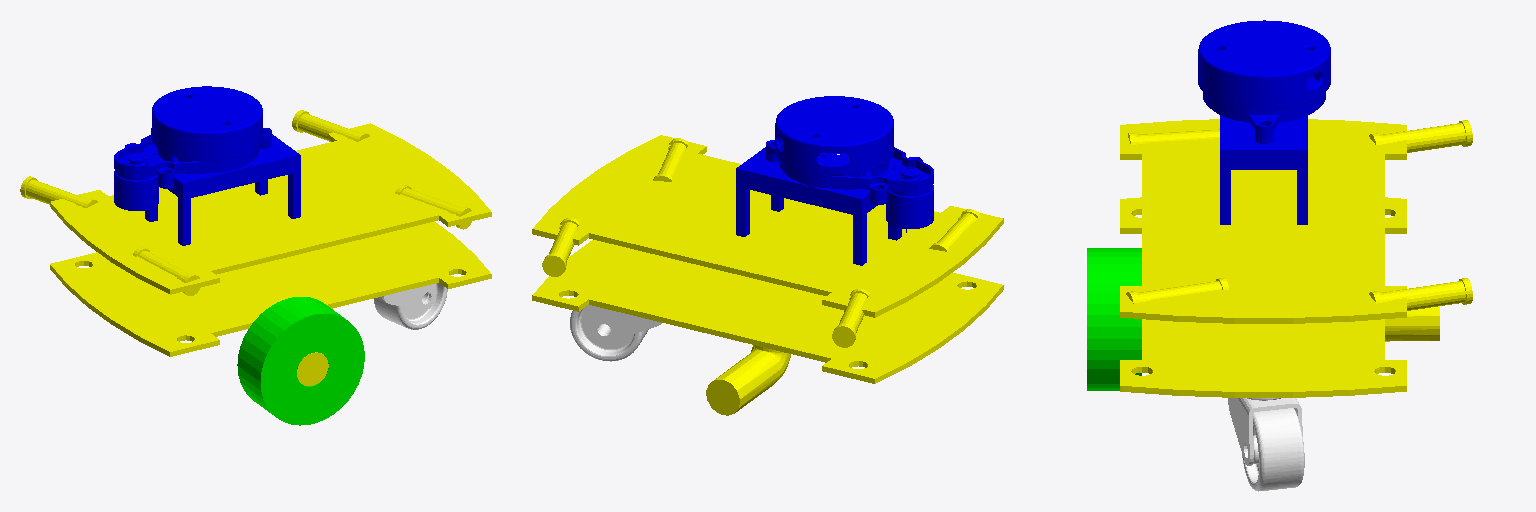
The robot description file, URDF, robot "ydpibot_describtion":
<?xml version="1.0" encoding="utf-8"?>
<!-- This URDF was automatically created by SolidWorks to URDF Exporter! Originally created by [author] ([email redacted]) 
     Commit Version: 1.6.0-4-g7f85cfe  Build Version: 1.6.7995.38578
     For more information, please see http://wiki.ros.org/sw_urdf_exporter -->
<robot
  name="ydpibot_describtion">
  <link name="dummy">
   </link>
  <link name="base_link">
    <inertial>
      <origin
        xyz="0.093495 -0.17099 0.094111"
        rpy="0 0 0" />
      <mass
        value="0.11353" />
      <inertia
        ixx="0"
        ixy="0"
        ixz="0"
        iyy="0"
        iyz="0"
        izz="0" />
    </inertial>
    <visual>
      <origin
        xyz="0 0 0"
        rpy="0 0 0" />
      <geometry>
        <mesh
          filename="package://ydpibot_describtion/meshes/base_link.STL" />
      </geometry>
      <material
        name="">
        <color
          rgba="1 1 0 1" />
      </material>
    </visual>
    <collision>
      <origin
        xyz="0 0 0"
        rpy="0 0 0" />
      <geometry>
        <mesh
          filename="package://ydpibot_describtion/meshes/base_link.STL" />
      </geometry>
    </collision>
  </link>
  <joint name="dummy_joint" type="fixed">
     <parent link="dummy"/>
     <child link="base_link"/>
   </joint>
  <link
    name="Base_upper">
    <inertial>
      <origin
        xyz="-0.00023228 0.0015 2.7756E-17"
        rpy="0 0 0" />
      <mass
        value="0.072243" />
      <inertia
        ixx="7.9419E-05"
        ixy="7.2898E-21"
        ixz="2.2924E-19"
        iyy="0.00035752"
        iyz="-3.7269E-21"
        izz="0.00027821" />
    </inertial>
    <visual>
      <origin
        xyz="0 0 0"
        rpy="0 0 0" />
      <geometry>
        <mesh
          filename="package://ydpibot_describtion/meshes/Base_upper.STL" />
      </geometry>
      <material
        name="">
        <color
          rgba="1 1 0 1" />
      </material>
    </visual>
    <collision>
      <origin
        xyz="0 0 0"
        rpy="0 0 0" />
      <geometry>
        <mesh
          filename="package://ydpibot_describtion/meshes/Base_upper.STL" />
      </geometry>
    </collision>
  </link>
  <joint
    name="Base_upper_joint"
    type="fixed">
    <origin
      xyz="0.10092 -0.17099 0.13642"
      rpy="1.5708 0 0" />
    <parent
      link="base_link" />
    <child
      link="Base_upper" />
    <axis
      xyz="0 0 0" />
  </joint>
  <link
    name="spacer1">
    <inertial>
      <origin
        xyz="8.3267E-17 -0.017 -2.7756E-17"
        rpy="0 0 0" />
      <mass
        value="0.0038202" />
      <inertia
        ixx="7.5881E-07"
        ixy="4.9502E-23"
        ixz="0"
        iyy="5.1484E-08"
        iyz="-2.6834E-23"
        izz="7.5881E-07" />
    </inertial>
    <visual>
      <origin
        xyz="0 0 0"
        rpy="0 0 0" />
      <geometry>
        <mesh
          filename="package://ydpibot_describtion/meshes/spacer1.STL" />
      </geometry>
      <material
        name="">
        <color
          rgba="1 1 0 1" />
      </material>
    </visual>
    <collision>
      <origin
        xyz="0 0 0"
        rpy="0 0 0" />
      <geometry>
        <mesh
          filename="package://ydpibot_describtion/meshes/spacer1.STL" />
      </geometry>
    </collision>
  </link>
  <joint
    name="spacer1_joint"
    type="continuous">
    <origin
      xyz="0.084615 0 -0.055"
      rpy="0 0.33559 0" />
    <parent
      link="Base_upper" />
    <child
      link="spacer1" />
    <axis
      xyz="0 1 0" />
  </joint>
  <link
    name="spacer2">
    <inertial>
      <origin
        xyz="1.3878E-16 -0.017 5.5511E-17"
        rpy="0 0 0" />
      <mass
        value="0.0038202" />
      <inertia
        ixx="7.5881E-07"
        ixy="3.3914E-23"
        ixz="-5.294E-23"
        iyy="5.1484E-08"
        iyz="-2.2598E-23"
        izz="7.5881E-07" />
    </inertial>
    <visual>
      <origin
        xyz="0 0 0"
        rpy="0 0 0" />
      <geometry>
        <mesh
          filename="package://ydpibot_describtion/meshes/spacer2.STL" />
      </geometry>
      <material
        name="">
        <color
          rgba="1 1 0 1" />
      </material>
    </visual>
    <collision>
      <origin
        xyz="0 0 0"
        rpy="0 0 0" />
      <geometry>
        <mesh
          filename="package://ydpibot_describtion/meshes/spacer2.STL" />
      </geometry>
    </collision>
  </link>
  <joint
    name="spacer2_joint"
    type="continuous">
    <origin
      xyz="0.084615 0 0.055"
      rpy="0 0.33674 0" />
    <parent
      link="Base_upper" />
    <child
      link="spacer2" />
    <axis
      xyz="0 1 0" />
  </joint>
  <link
    name="spacer3">
    <inertial>
      <origin
        xyz="0 -0.017 0"
        rpy="0 0 0" />
      <mass
        value="0.0038202" />
      <inertia
        ixx="7.5881E-07"
        ixy="2.3253E-23"
        ixz="0"
        iyy="5.1484E-08"
        iyz="-1.7306E-23"
        izz="7.5881E-07" />
    </inertial>
    <visual>
      <origin
        xyz="0 0 0"
        rpy="0 0 0" />
      <geometry>
        <mesh
          filename="package://ydpibot_describtion/meshes/spacer3.STL" />
      </geometry>
      <material
        name="">
        <color
          rgba="1 1 0 1" />
      </material>
    </visual>
    <collision>
      <origin
        xyz="0 0 0"
        rpy="0 0 0" />
      <geometry>
        <mesh
          filename="package://ydpibot_describtion/meshes/spacer3.STL" />
      </geometry>
    </collision>
  </link>
  <joint
    name="spacer3_joint"
    type="continuous">
    <origin
      xyz="-0.084615 0 -0.055"
      rpy="0 0.33674 0" />
    <parent
      link="Base_upper" />
    <child
      link="spacer3" />
    <axis
      xyz="0 1 0" />
  </joint>
  <link
    name="spacer4">
    <inertial>
      <origin
        xyz="-2.4286E-17 -0.017 2.7756E-17"
        rpy="0 0 0" />
      <mass
        value="0.0038202" />
      <inertia
        ixx="7.5881E-07"
        ixy="1.4302E-23"
        ixz="0"
        iyy="5.1484E-08"
        iyz="3.294E-24"
        izz="7.5881E-07" />
    </inertial>
    <visual>
      <origin
        xyz="0 0 0"
        rpy="0 0 0" />
      <geometry>
        <mesh
          filename="package://ydpibot_describtion/meshes/spacer4.STL" />
      </geometry>
      <material
        name="">
        <color
          rgba="1 1 0 1" />
      </material>
    </visual>
    <collision>
      <origin
        xyz="0 0 0"
        rpy="0 0 0" />
      <geometry>
        <mesh
          filename="package://ydpibot_describtion/meshes/spacer4.STL" />
      </geometry>
    </collision>
  </link>
  <joint
    name="spacer4_joint"
    type="continuous">
    <origin
      xyz="-0.0846153846153846 0 0.0549999999999999"
      rpy="0 0.147154651933592 0" />
    <parent
      link="Base_upper" />
    <child
      link="spacer4" />
    <axis
      xyz="0 1 0" />
  </joint>
  <link
    name="Lidar">
    <inertial>
      <origin
        xyz="-0.010012 -1.8874E-15 -0.015783"
        rpy="0 0 0" />
      <mass
        value="0.032124" />
      <inertia
        ixx="6.0421E-06"
        ixy="-8.5232E-20"
        ixz="1.0463E-21"
        iyy="1.7716E-05"
        iyz="2.3635E-21"
        izz="2.1195E-05" />
    </inertial>
    <visual>
      <origin
        xyz="0 0 0"
        rpy="0 0 0" />
      <geometry>
        <mesh
          filename="package://ydpibot_describtion/meshes/Lidar.STL" />
      </geometry>
      <material
        name="">
        <color
          rgba="0 0 1 1" />
      </material>
    </visual>
    <collision>
      <origin
        xyz="0 0 0"
        rpy="0 0 0" />
      <geometry>
        <mesh
          filename="package://ydpibot_describtion/meshes/Lidar.STL" />
      </geometry>
    </collision>
  </link>
  <joint
    name="Lidar_joint"
    type="fixed">
    <origin
      xyz="-0.039725 0.04948 0"
      rpy="1.5708 0 -3.1416" />
    <parent
      link="Base_upper" />
    <child
      link="Lidar" />
    <axis
      xyz="0 0 0" />
  </joint>
  <link
    name="Wheel1">
    <inertial>
      <origin
        xyz="0 -1.3878E-17 0.0125"
        rpy="0 0 0" />
      <mass
        value="0.075104" />
      <inertia
        ixx="2.5621E-05"
        ixy="-2.9995E-39"
        ixz="-4.4116E-23"
        iyy="2.5621E-05"
        iyz="-7.1293E-38"
        izz="4.3419E-05" />
    </inertial>
    <visual>
      <origin
        xyz="0 0 0"
        rpy="0 0 0" />
      <geometry>
        <mesh
          filename="package://ydpibot_describtion/meshes/Wheel1.STL" />
      </geometry>
      <material
        name="">
        <color
          rgba="0 1 0 1" />
      </material>
    </visual>
    <collision>
      <origin
        xyz="0 0 0"
        rpy="0 0 0" />
      <geometry>
        <mesh
          filename="package://ydpibot_describtion/meshes/Wheel1.STL" />
      </geometry>
    </collision>
  </link>
  <joint
    name="Wheel1_joint"
    type="continuous">
    <origin
      xyz="0.080916 -0.090994 0.079422"
      rpy="1.5708 0 0" />
    <parent
      link="base_link" />
    <child
      link="Wheel1" />
    <axis
      xyz="0 0 1" />
  </joint>
  <link
    name="Wheel2">
    <inertial>
      <origin
        xyz="0 0 0.0125"
        rpy="0 0 0" />
      <mass
        value="0.075104" />
      <inertia
        ixx="2.5621E-05"
        ixy="-2.9995E-39"
        ixz="-5.4594E-37"
        iyy="2.5621E-05"
        iyz="-7.1293E-38"
        izz="4.3419E-05" />
    </inertial>
    <visual>
      <origin
        xyz="0 0 0"
        rpy="0 0 0" />
      <geometry>
        <mesh
          filename="package://ydpibot_describtion/meshes/Wheel2.STL" />
      </geometry>
      <material
        name="">
        <color
          rgba="0 1 0 1" />
      </material>
    </visual>
    <collision>
      <origin
        xyz="0 0 0"
        rpy="0 0 0" />
      <geometry>
        <mesh
          filename="package://ydpibot_describtion/meshes/Wheel2.STL" />
      </geometry>
    </collision>
  </link>
  <joint
    name="Wheel2_joint"
    type="continuous">
    <origin
      xyz="0.080916 -0.22599 0.079422"
      rpy="1.5708 0 0" />
    <parent
      link="base_link" />
    <child
      link="Wheel2" />
    <axis
      xyz="0 0 1" />
  </joint>
  <link
    name="Caster Wheel Base">
    <inertial>
      <origin
        xyz="0.017052 0.003709 -0.0125"
        rpy="0 0 0" />
      <mass
        value="0.044833" />
      <inertia
        ixx="4.8267E-06"
        ixy="-1.0357E-23"
        ixz="-4.9183E-22"
        iyy="9.3882E-06"
        iyz="-4.9992E-22"
        izz="4.8267E-06" />
    </inertial>
    <visual>
      <origin
        xyz="0 0 0"
        rpy="0 0 0" />
      <geometry>
        <mesh
          filename="package://ydpibot_describtion/meshes/Caster Wheel Base.STL" />
      </geometry>
      <material
        name="">
        <color
          rgba="1 1 1 1" />
      </material>
    </visual>
    <collision>
      <origin
        xyz="0 0 0"
        rpy="0 0 0" />
      <geometry>
        <mesh
          filename="package://ydpibot_describtion/meshes/Caster Wheel Base.STL" />
      </geometry>
    </collision>
  </link>
  <joint
    name="Caster Wheel Base_joint"
    type="fixed">
    <origin
      xyz="0.15791 -0.18349 0.093422"
      rpy="1.5708 0 0" />
    <parent
      link="base_link" />
    <child
      link="Caster Wheel Base" />
    <axis
      xyz="0 0 0" />
  </joint>
  <link
    name="Caster Wheel cage">
    <inertial>
      <origin
        xyz="0.019414 -0.0053453 -0.0125"
        rpy="0 0 0" />
      <mass
        value="0.056621" />
      <inertia
        ixx="7.5423E-06"
        ixy="8.202E-07"
        ixz="9.6169E-12"
        iyy="1.077E-05"
        iyz="-4.6142E-11"
        izz="8.0977E-06" />
    </inertial>
    <visual>
      <origin
        xyz="0 0 0"
        rpy="0 0 0" />
      <geometry>
        <mesh
          filename="package://ydpibot_describtion/meshes/Caster Wheel cage.STL" />
      </geometry>
      <material
        name="">
        <color
          rgba="1 1 1 1" />
      </material>
    </visual>
    <collision>
      <origin
        xyz="0 0 0"
        rpy="0 0 0" />
      <geometry>
        <mesh
          filename="package://ydpibot_describtion/meshes/Caster Wheel cage.STL" />
      </geometry>
    </collision>
  </link>
  <joint
    name="Caster Wheel cage_joint"
    type="fixed">
    <origin
      xyz="0.0037189 -0.004 0.0039088"
      rpy="0 0.25588 0" />
    <parent
      link="Caster Wheel Base" />
    <child
      link="Caster Wheel cage" />
    <axis
      xyz="0 0 0" />
  </joint>
  <link
    name="Caster Wheel">
    <inertial>
      <origin
        xyz="1.3878E-17 0 2.7756E-17"
        rpy="0 0 0" />
      <mass
        value="0.017472" />
      <inertia
        ixx="2.2415E-06"
        ixy="-1.1581E-23"
        ixz="-6.2866E-22"
        iyy="2.2415E-06"
        iyz="-1.747E-21"
        izz="3.5831E-06" />
    </inertial>
    <visual>
      <origin
        xyz="0 0 0"
        rpy="0 0 0" />
      <geometry>
        <mesh
          filename="package://ydpibot_describtion/meshes/Caster Wheel.STL" />
      </geometry>
      <material
        name="">
        <color
          rgba="1 1 1 1" />
      </material>
    </visual>
    <collision>
      <origin
        xyz="0 0 0"
        rpy="0 0 0" />
      <geometry>
        <mesh
          filename="package://ydpibot_describtion/meshes/Caster Wheel.STL" />
      </geometry>
    </collision>
  </link>
  <joint
    name="Caster Wheel_joint"
    type="fixed">
    <origin
      xyz="0.033052 -0.023 -0.0125"
      rpy="0 0 1.7635" />
    <parent
      link="Caster Wheel cage" />
    <child
      link="Caster Wheel" />
    <axis
      xyz="0 0 0" />
  </joint>
</robot>

--- Facts derived from the render (not from the file) ---
Views: 3 orthographic renders of the robot side by side, from view 1: azimuth 30°, elevation 25°; view 2: azimuth 150°, elevation 25°; view 3: azimuth 270°, elevation 25°.
Model ydpibot_describtion with 13 links and 12 joints (6 continuous, 6 fixed), rooted at dummy, posed every joint at zero.
Links seen in each view (by area): view 1: Base_upper, base_link, Lidar, Wheel2, Caster Wheel, spacer1, spacer3, Caster Wheel cage, spacer2, spacer4; view 2: Base_upper, base_link, Lidar, Caster Wheel, Caster Wheel cage, spacer1, spacer3, spacer2, spacer4; view 3: Base_upper, base_link, Lidar, Wheel2, Caster Wheel, spacer3, spacer1, Caster Wheel cage, spacer2, spacer4.
Link boxes in pixels (bbox=[...]): Base_upper: bbox=[50, 123, 491, 294]; base_link: bbox=[50, 221, 491, 385]; Lidar: bbox=[114, 86, 300, 245]; Wheel2: bbox=[237, 297, 364, 425]; Caster Wheel: bbox=[374, 283, 447, 329]; spacer1: bbox=[292, 110, 369, 141]; spacer3: bbox=[20, 176, 97, 207]; Caster Wheel cage: bbox=[382, 284, 435, 310]; spacer2: bbox=[395, 185, 471, 229]; spacer4: bbox=[133, 247, 199, 295]; Base_upper: bbox=[532, 135, 1003, 317]; base_link: bbox=[532, 240, 1003, 415]; Lidar: bbox=[736, 96, 933, 265]; Caster Wheel: bbox=[570, 305, 648, 361]; Caster Wheel cage: bbox=[591, 306, 661, 342]; spacer1: bbox=[542, 218, 580, 276]; spacer3: bbox=[832, 289, 870, 347]; spacer2: bbox=[653, 138, 689, 181]; spacer4: bbox=[929, 209, 980, 251]; Base_upper: bbox=[1120, 119, 1406, 323]; base_link: bbox=[1120, 197, 1439, 397]; Lidar: bbox=[1198, 20, 1330, 224]; Wheel2: bbox=[1087, 248, 1141, 390]; Caster Wheel: bbox=[1242, 408, 1304, 491]; spacer3: bbox=[1369, 120, 1472, 152]; spacer1: bbox=[1369, 278, 1472, 310]; Caster Wheel cage: bbox=[1228, 398, 1302, 465]; spacer2: bbox=[1126, 278, 1228, 303]; spacer4: bbox=[1128, 129, 1219, 144].
Size in the robot's own frame: 0.217 by 0.1747 by 0.1593 metres.
Meshes: 12 distinct files referenced, 11 mesh visuals loaded (11 binary STL); not drawn: 1 (reference not matched to a file when rendering).